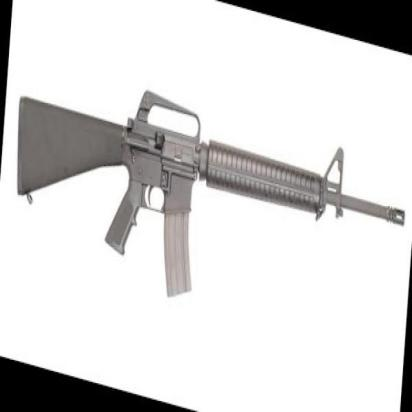Gun: (17, 85, 408, 304)
